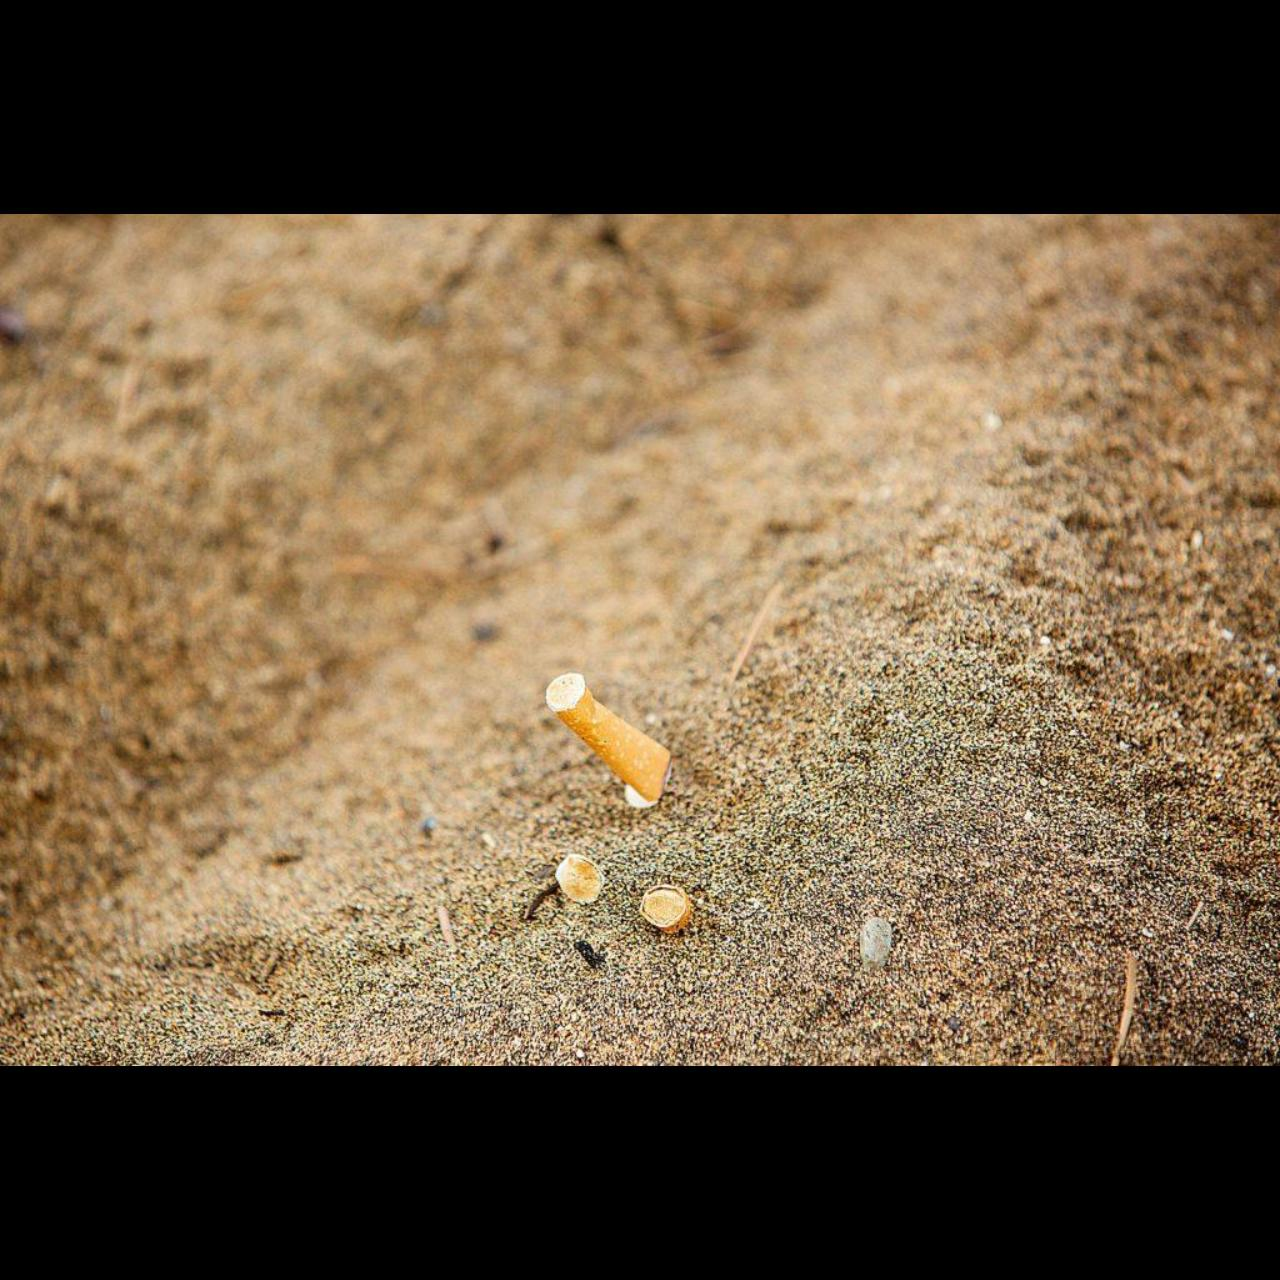cigarettes_butts: (546, 675, 670, 809), (640, 885, 693, 935), (554, 856, 605, 903)
